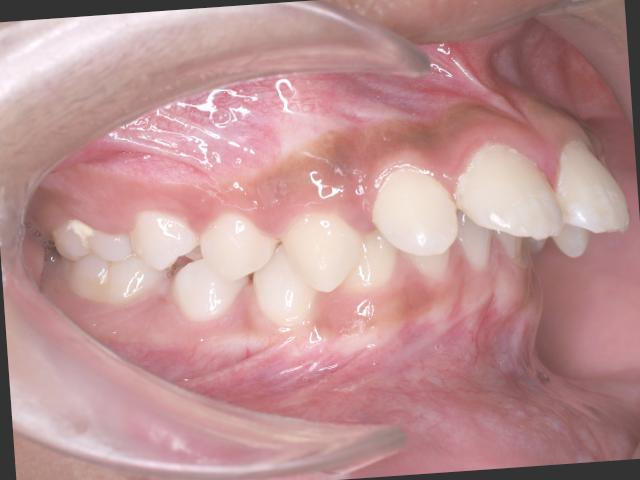canine class I: (247, 200, 405, 331)
molar class I: (44, 212, 172, 314)
